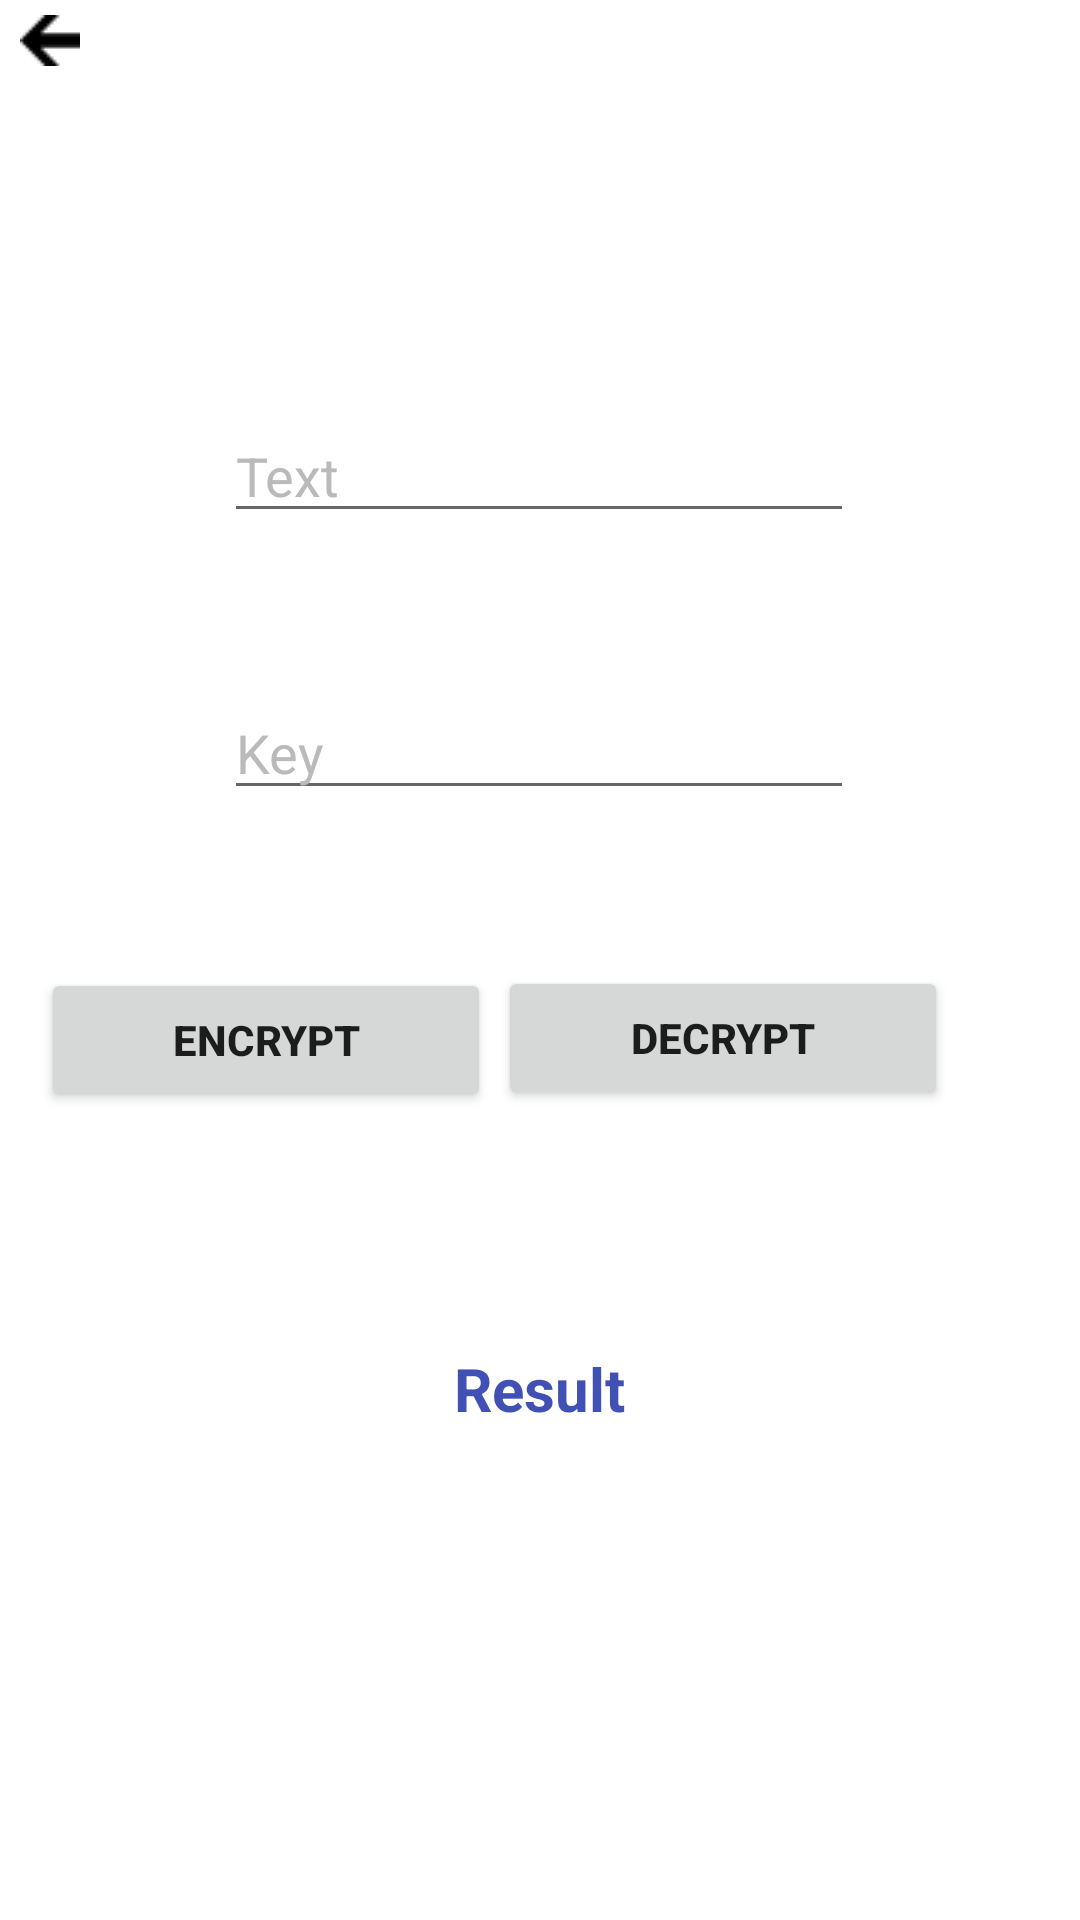

Icons on this 1080px×1920px Android screen, each with the point to tap as point (x, y):
left arrow: point (50, 40)
